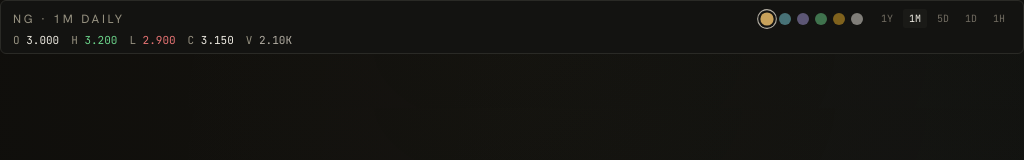
Test: PriceMiniChart timeframe controls › switches to 5D → 15m resolution
Step 1. Click the tab "5D" → (943, 18), box 931,9 -> 955,28
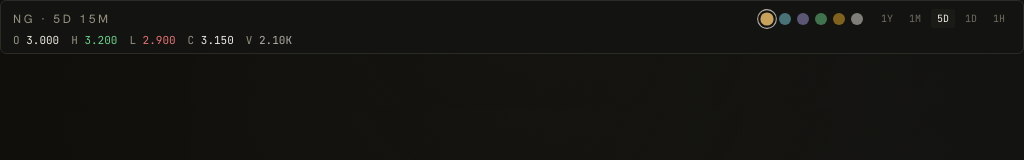
Now the text "NG · 5D 15m" is shown, box 13,10 -> 111,26
